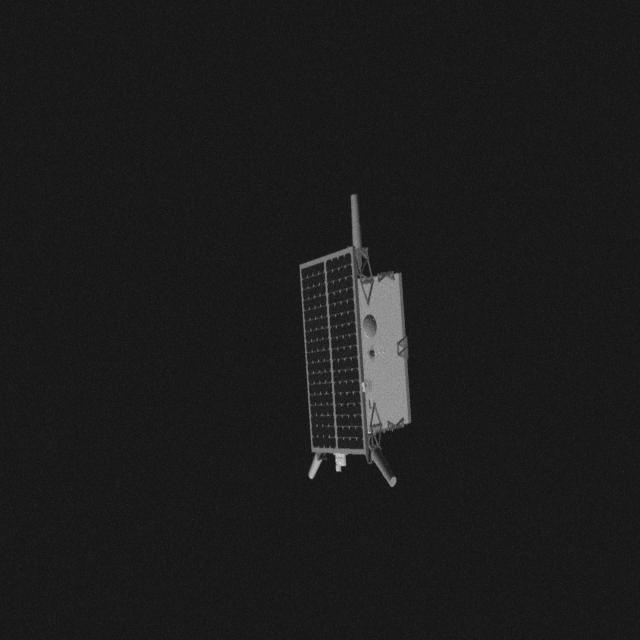medium_debris: (286, 182, 418, 500)
